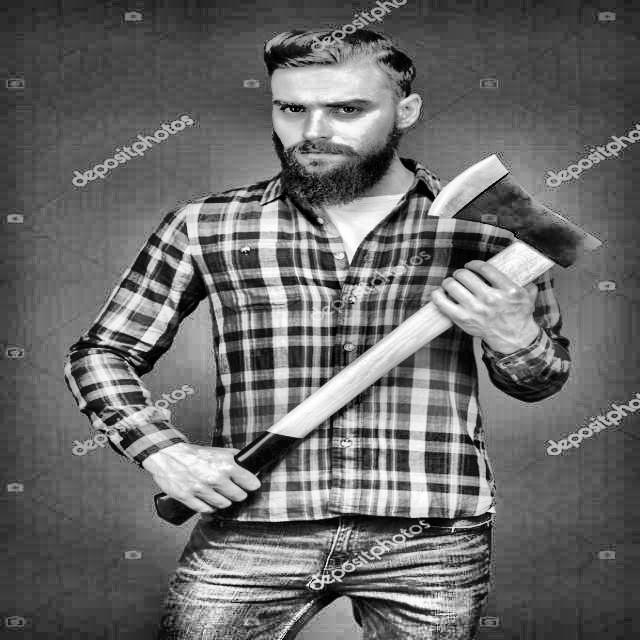kapak: (142, 150, 621, 533)
